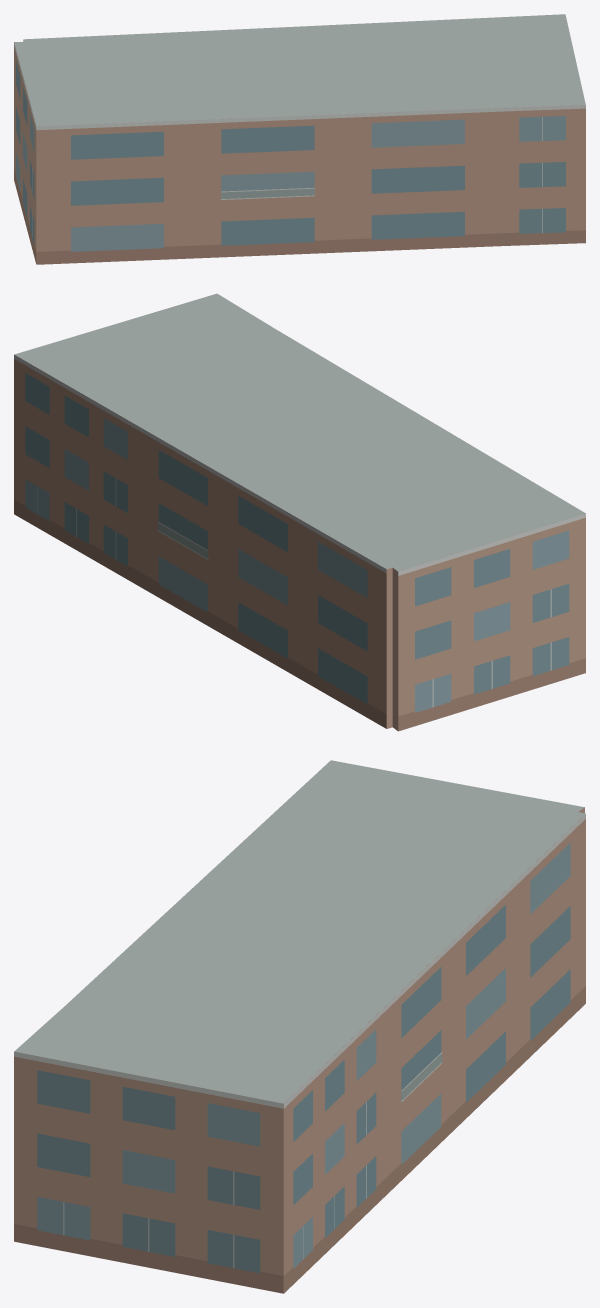
File: survey-upis-32525147.glb
The picture shows the model from 3 angles, top to bottom: view 1: azimuth 30°, elevation 25°; view 2: azimuth 150°, elevation 25°; view 3: azimuth 270°, elevation 25°; orthographic projection. The views are drawn at different scales.
Parts seen in each view (by area): view 1: survey-upis-32525147.tmp; view 2: survey-upis-32525147.tmp; view 3: survey-upis-32525147.tmp.
Boxes of the visible parts, bbox=[...] form: survey-upis-32525147.tmp: bbox=[14, 14, 585, 264]; survey-upis-32525147.tmp: bbox=[14, 293, 585, 731]; survey-upis-32525147.tmp: bbox=[14, 760, 585, 1293].
Size of the model in its own units: 35.48 by 9.15 by 24.96.
